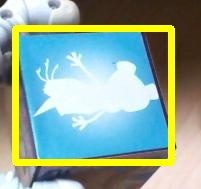Blue2: (14, 29, 172, 162)
